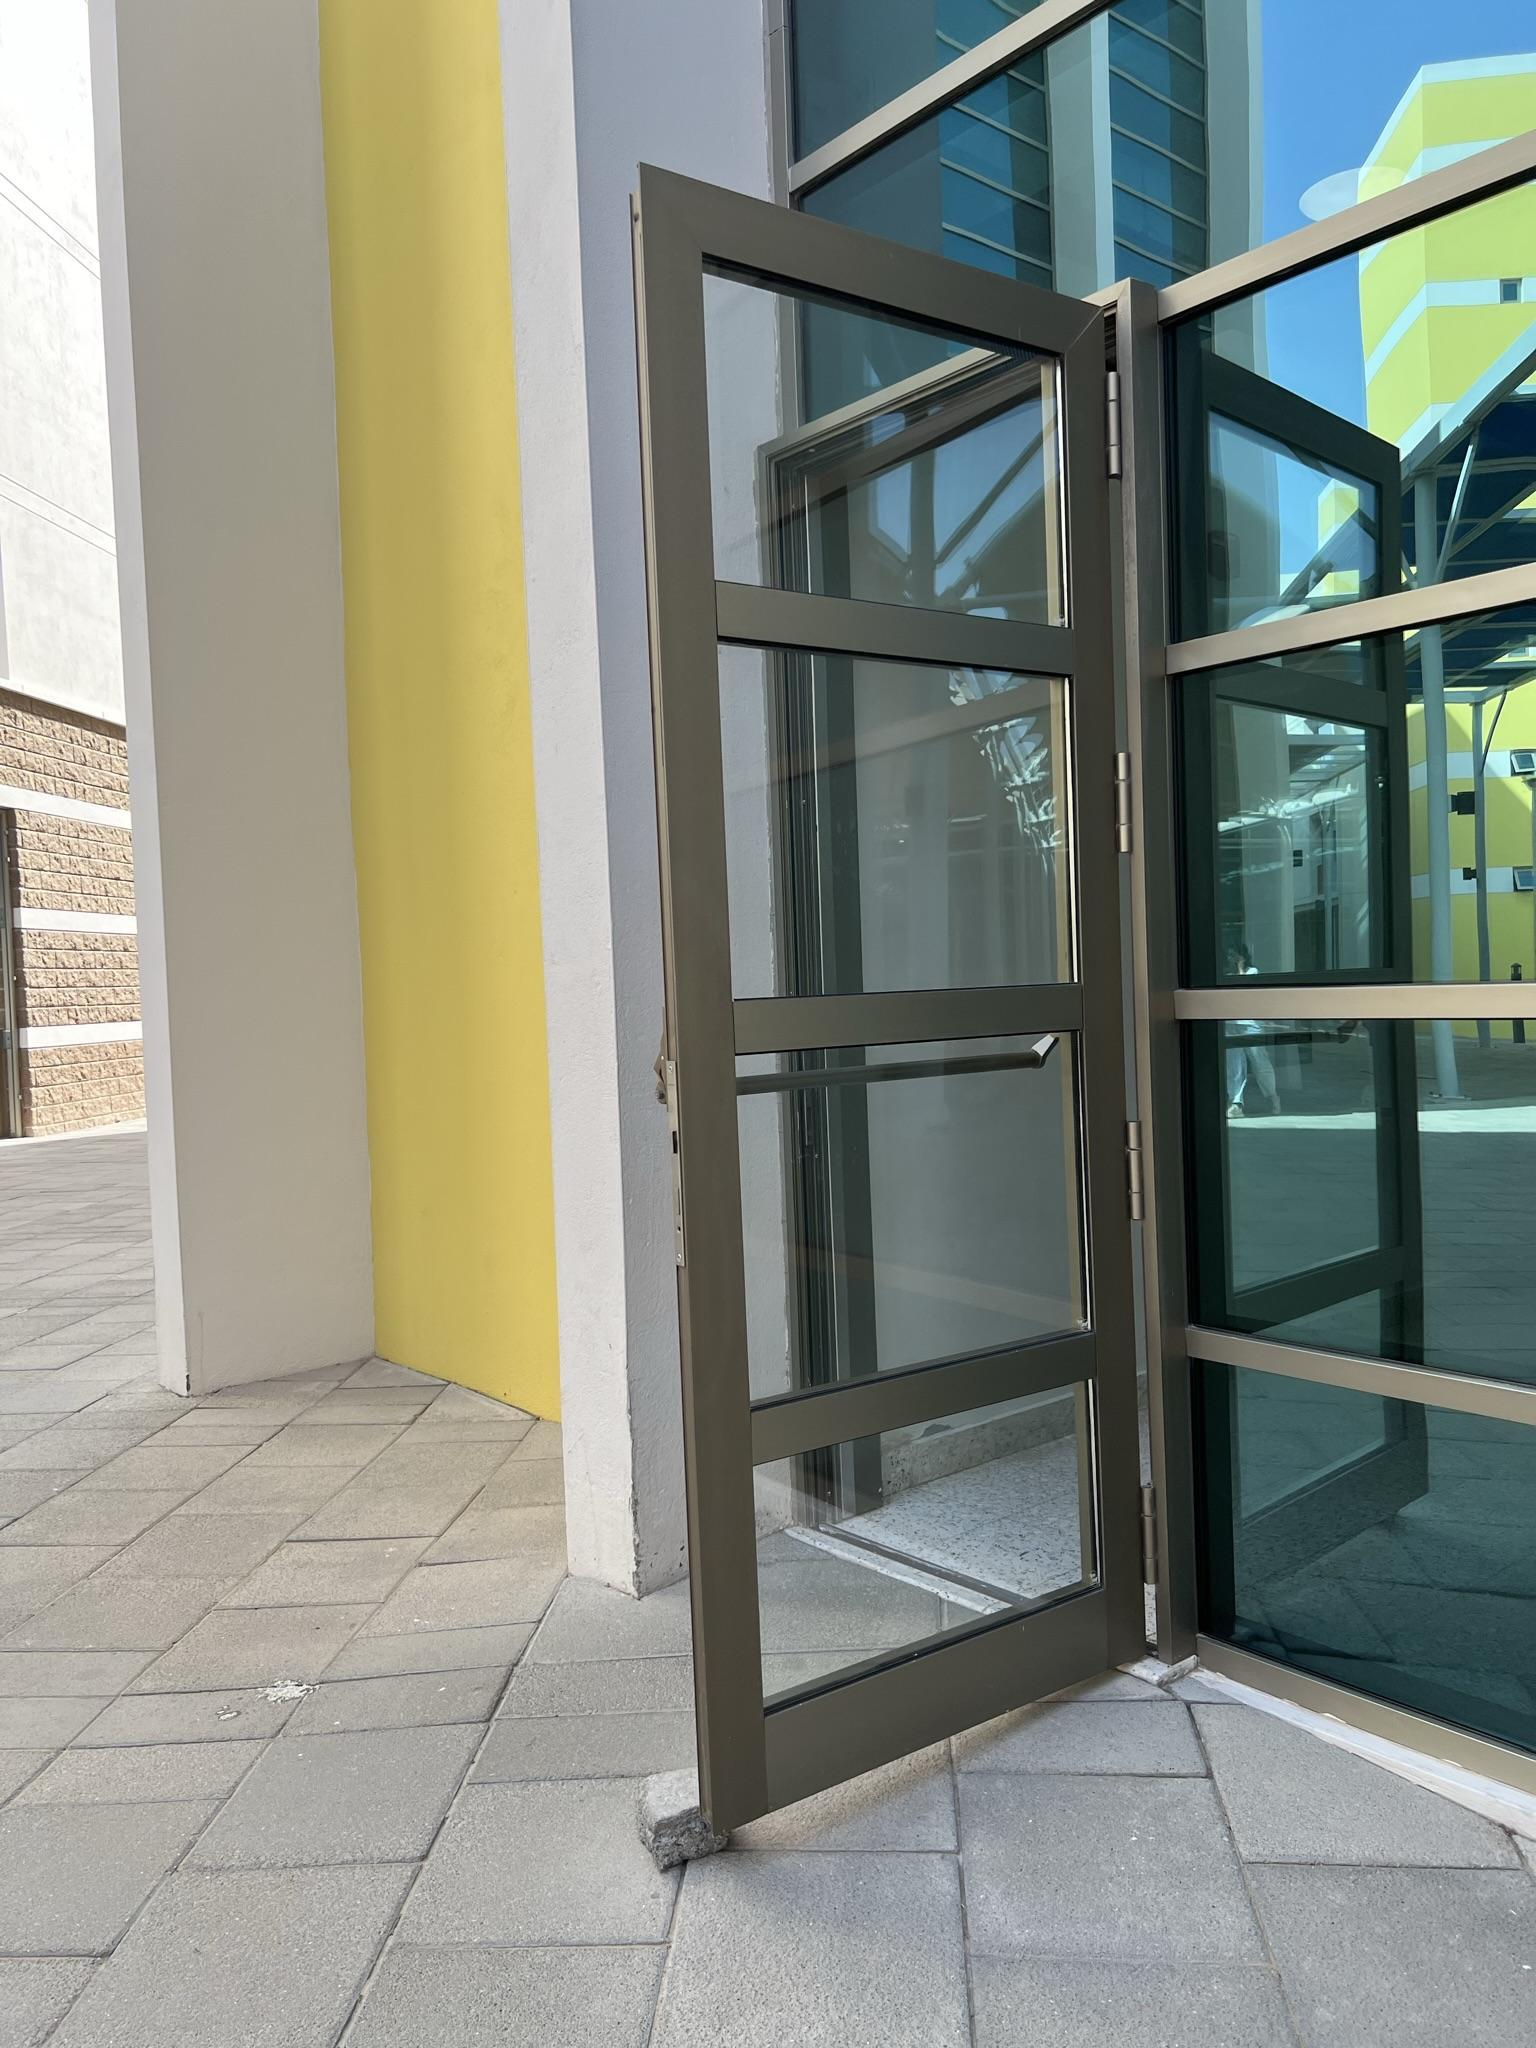door: (652, 161, 1146, 1763)
